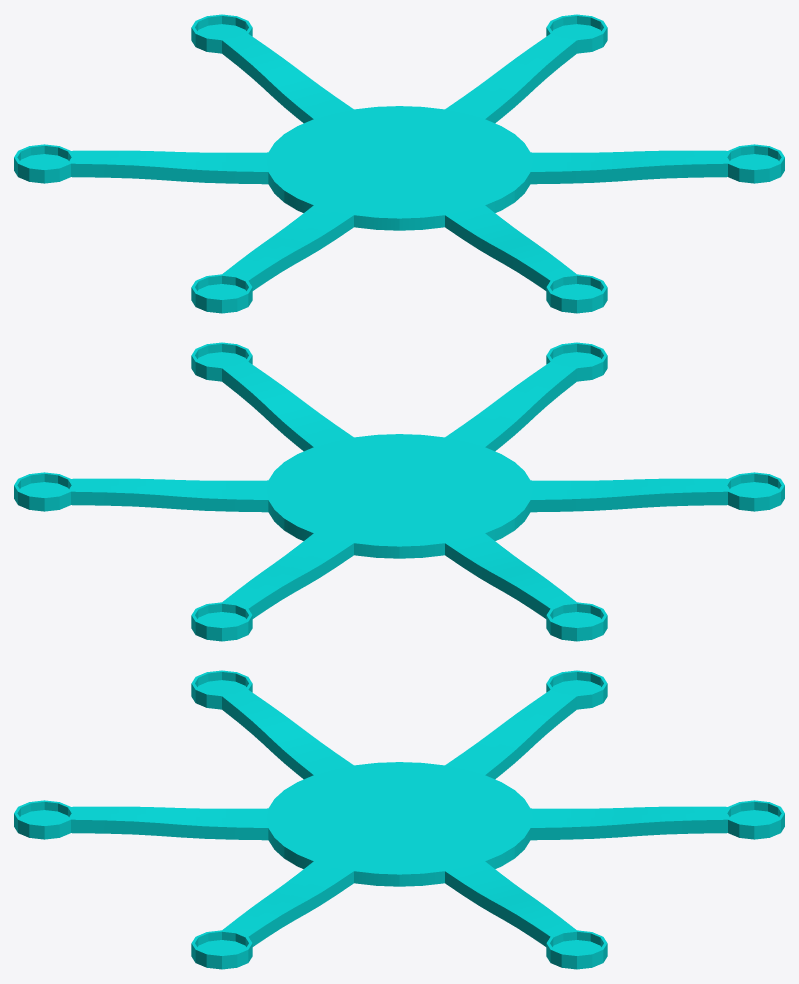
The model's file is body_17.fbx.
3 views of the same model, one above another, from view 1: azimuth 30°, elevation 25°; view 2: azimuth 150°, elevation 25°; view 3: azimuth 270°, elevation 25° (orthographic).
Visible parts, largest first — view 1: pCylinder171; view 2: pCylinder171; view 3: pCylinder171.
Part boxes in pixels (x1,y1,x2,y2): pCylinder171: (14, 14, 784, 313); pCylinder171: (14, 342, 784, 641); pCylinder171: (14, 670, 784, 969).
Bounding box in the file's own units: 20.81 × 0.5824 × 23.73.
